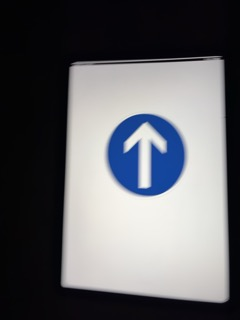GO FORWARD: (107, 114, 185, 194)
